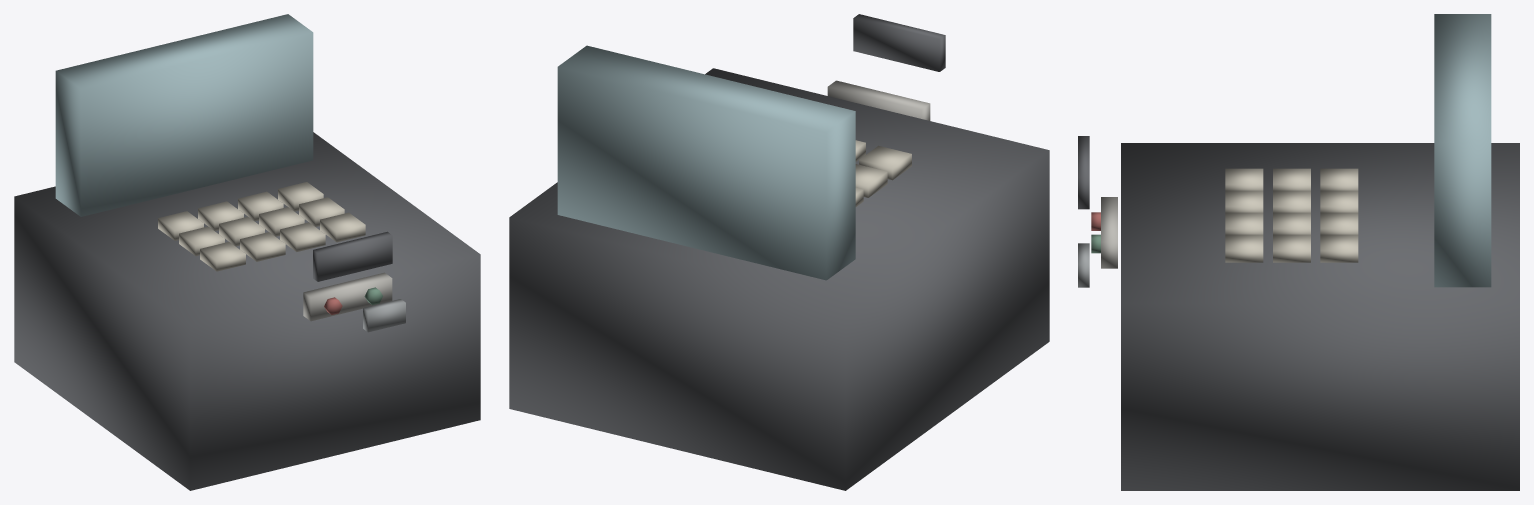
File: cash_register__weathered.glb
3 renders of one model, left to right at view 1: azimuth 30°, elevation 25°; view 2: azimuth 150°, elevation 25°; view 3: azimuth 270°, elevation 25°, orthographic. The views are drawn at different scales.
Visible parts, largest first — view 1: world; view 2: world; view 3: world.
Part boxes in pixels (<box>): world: <box>14,14,480,490</box>; world: <box>509,14,1049,490</box>; world: <box>1078,14,1519,490</box>.
Bounding box in the file's own units: 0.4 × 0.3861 × 0.465.
